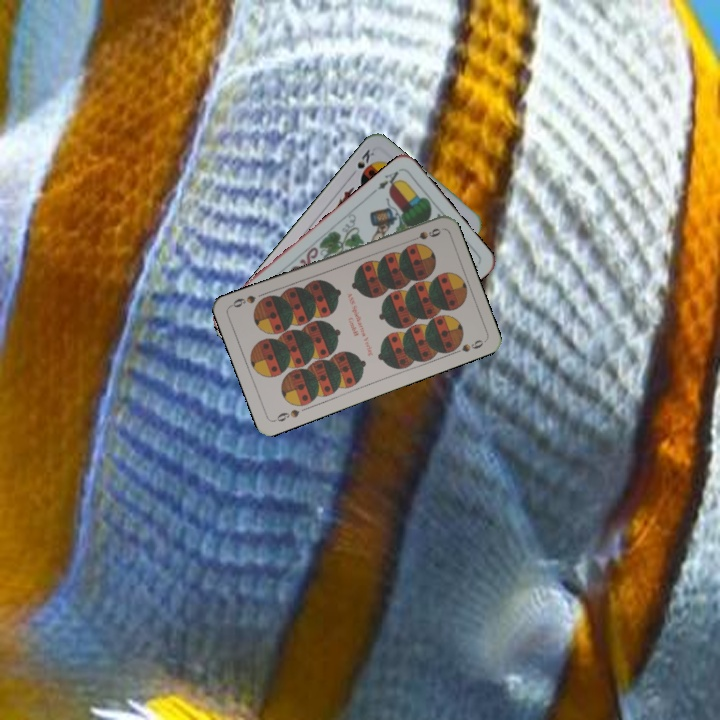EA: (373, 167, 404, 193)
S9: (404, 224, 444, 245), (270, 405, 302, 424)
SK: (353, 145, 377, 171)
